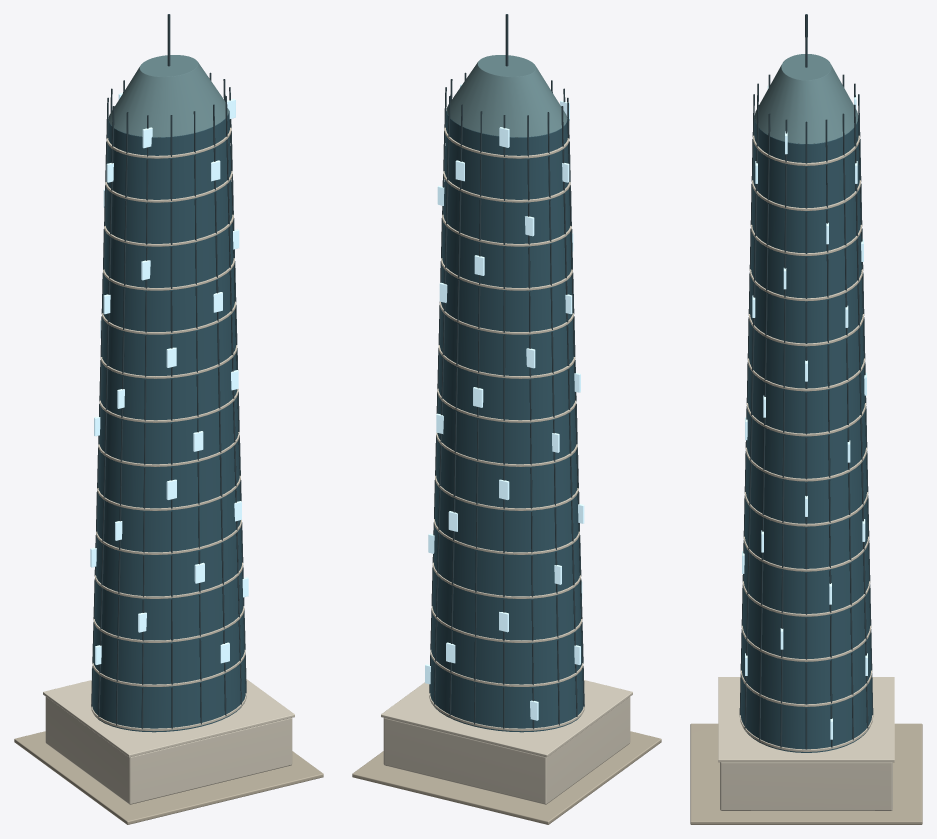
File: glass-tower.glb
3 views of the same model, side by side, from view 1: azimuth 30°, elevation 25°; view 2: azimuth 150°, elevation 25°; view 3: azimuth 270°, elevation 25° (orthographic). The views are drawn at different scales.
Parts seen in each view (by area): view 1: glass_tower_Elliptical_Tower, glass_tower_Building_Volume, glass_tower_Sculpted_Crown, glass_tower_Site_Paving, glass_tower_Roof_Coping; view 2: glass_tower_Elliptical_Tower, glass_tower_Building_Volume, glass_tower_Sculpted_Crown, glass_tower_Site_Paving, glass_tower_Roof_Coping; view 3: glass_tower_Elliptical_Tower, glass_tower_Building_Volume, glass_tower_Site_Paving, glass_tower_Sculpted_Crown, glass_tower_Roof_Coping, glass_tower_Tower_Floor_Ring, glass_tower_Tower_Floor_Ring.001, glass_tower_Tower_Floor_Ring.002, glass_tower_Tower_Floor_Ring.004, glass_tower_Tower_Floor_Ring.005, glass_tower_Tower_Floor_Ring.003, glass_tower_Tower_Floor_Ring.006 (+4 smaller).
Boxes of the visible parts, x1,y1,x2,y2 form: glass_tower_Elliptical_Tower: [92, 111, 245, 732]; glass_tower_Building_Volume: [45, 697, 292, 804]; glass_tower_Sculpted_Crown: [108, 55, 229, 137]; glass_tower_Site_Paving: [14, 731, 323, 824]; glass_tower_Roof_Coping: [43, 679, 294, 757]; glass_tower_Elliptical_Tower: [430, 108, 583, 732]; glass_tower_Building_Volume: [383, 697, 630, 804]; glass_tower_Sculpted_Crown: [446, 55, 567, 137]; glass_tower_Site_Paving: [352, 731, 661, 824]; glass_tower_Roof_Coping: [381, 680, 632, 757]; glass_tower_Elliptical_Tower: [740, 113, 872, 752]; glass_tower_Building_Volume: [720, 762, 892, 810]; glass_tower_Site_Paving: [690, 723, 922, 824]; glass_tower_Sculpted_Crown: [754, 54, 858, 144]; glass_tower_Roof_Coping: [718, 677, 894, 762]; glass_tower_Tower_Floor_Ring: [739, 715, 873, 751]; glass_tower_Tower_Floor_Ring.001: [740, 670, 872, 706]; glass_tower_Tower_Floor_Ring.002: [741, 625, 871, 661]; glass_tower_Tower_Floor_Ring.004: [743, 536, 869, 571]; glass_tower_Tower_Floor_Ring.005: [744, 492, 868, 526]; glass_tower_Tower_Floor_Ring.003: [742, 581, 870, 616]; glass_tower_Tower_Floor_Ring.006: [745, 447, 867, 481].
Size of the model in its own units: 11.8 by 42.75 by 11.8.
